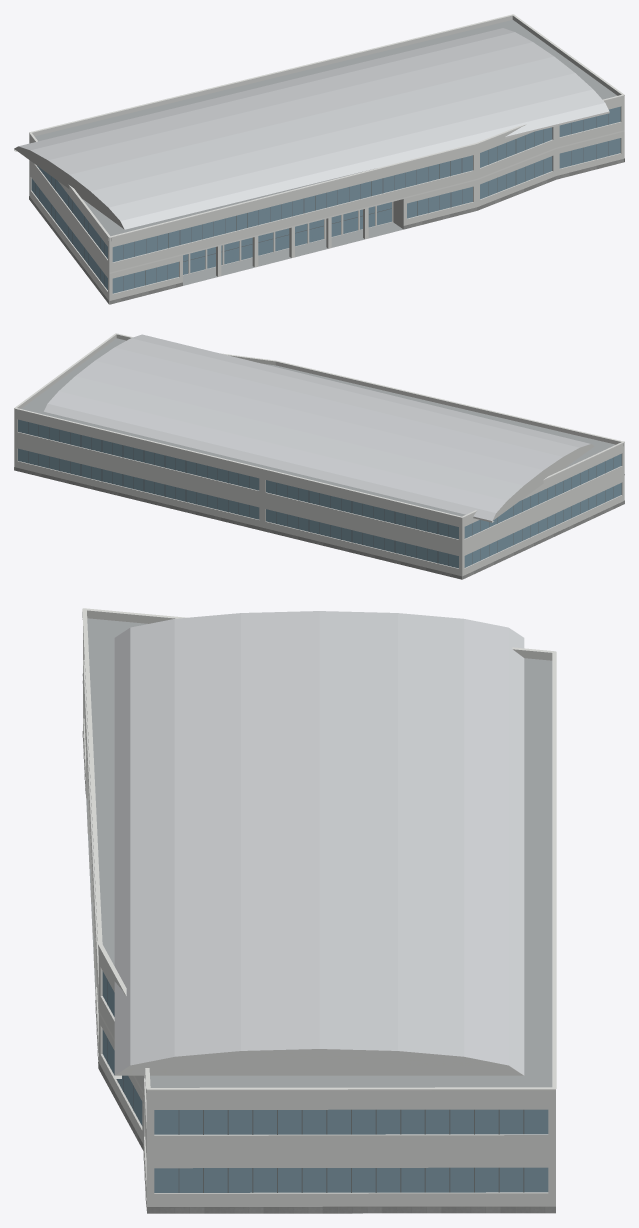
3 views of the same model, one above another, from view 1: azimuth 30°, elevation 25°; view 2: azimuth 150°, elevation 25°; view 3: azimuth 270°, elevation 25° (orthographic). The views are drawn at different scales.
Visible parts, largest first — view 1: wellness__vaultRoof, wellness__glass, wellness__wall, wellness__roof, wellness__parapet, wellness__trim, wellness__base, wellness__frame, wellness__vaultEnd, wellness__column; view 2: wellness__vaultRoof, wellness__wall, wellness__glass, wellness__parapet, wellness__roof, wellness__base, wellness__trim, wellness__frame, wellness__vaultEnd; view 3: wellness__vaultRoof, wellness__wall, wellness__roof, wellness__glass, wellness__vaultEnd, wellness__trim, wellness__parapet, wellness__base, wellness__frame.
Part boxes in pixels (box(x1,y1,x2,y2)): wellness__vaultRoof: box(19, 28, 609, 229); wellness__glass: box(31, 106, 620, 293); wellness__wall: box(29, 99, 624, 304); wellness__roof: box(34, 19, 617, 285); wellness__parapet: box(29, 15, 624, 241); wellness__trim: box(14, 14, 624, 273); wellness__base: box(29, 158, 624, 304); wellness__frame: box(35, 114, 608, 290); wellness__vaultEnd: box(14, 146, 124, 229); wellness__column: box(216, 208, 368, 276); wellness__vaultRoof: box(44, 334, 589, 520); wellness__wall: box(14, 412, 624, 579); wellness__glass: box(18, 419, 621, 568); wellness__parapet: box(14, 334, 624, 521); wellness__roof: box(21, 338, 615, 516); wellness__base: box(14, 467, 624, 579); wellness__trim: box(14, 333, 624, 522); wellness__frame: box(28, 422, 613, 565); wellness__vaultEnd: box(492, 444, 594, 520); wellness__vaultRoof: box(114, 611, 524, 1075); wellness__wall: box(83, 627, 555, 1210); wellness__roof: box(86, 618, 552, 1213); wellness__glass: box(102, 971, 548, 1192); wellness__vaultEnd: box(115, 1049, 523, 1075); wellness__trim: box(82, 608, 556, 1152); wellness__parapet: box(82, 610, 555, 1097); wellness__base: box(82, 731, 555, 1213); wellness__frame: box(107, 980, 524, 1192).
Size of the model in its own units: 92.37 by 12.82 by 38.45.
Materials: 11 (1 with a texture image).
